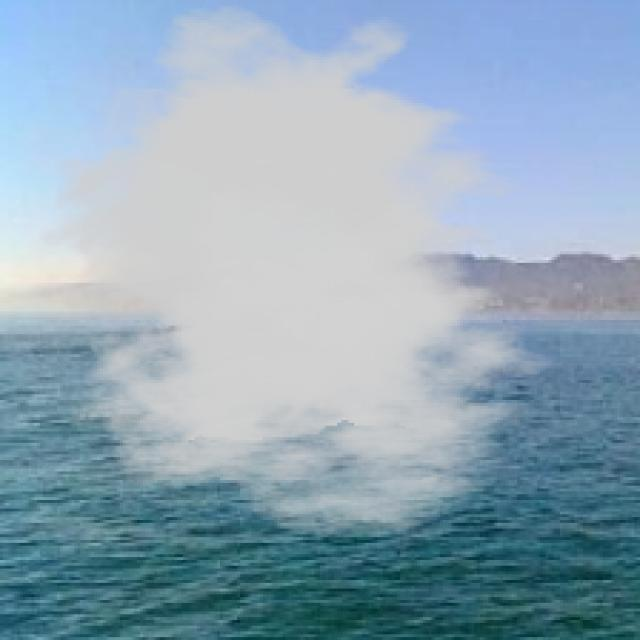Smoke: (28, 2, 583, 538)
